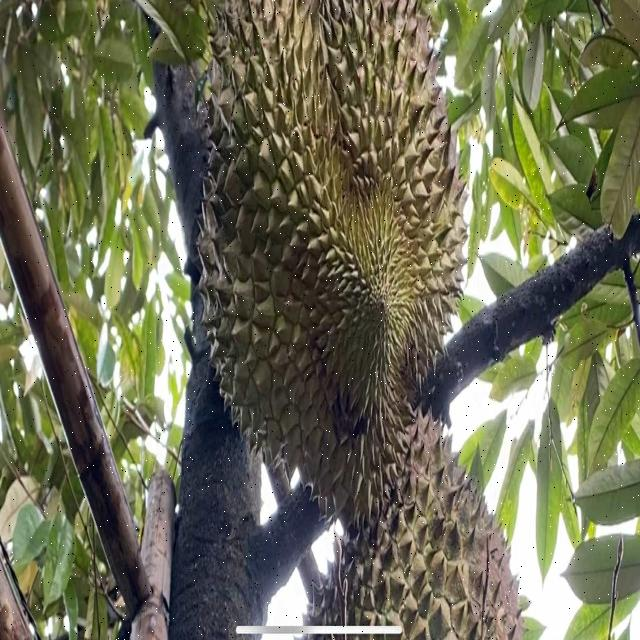RIPE: (195, 0, 467, 524)
